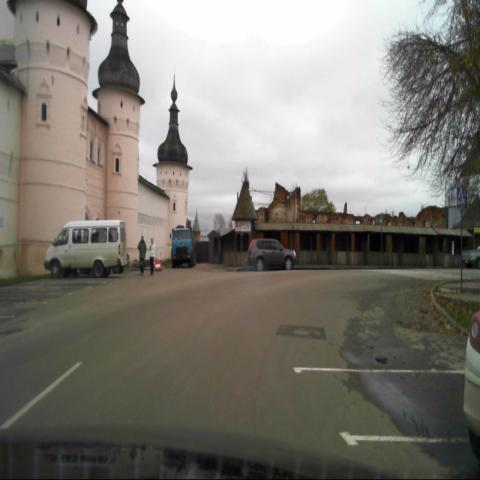5_19_1: (456, 184, 466, 206)
